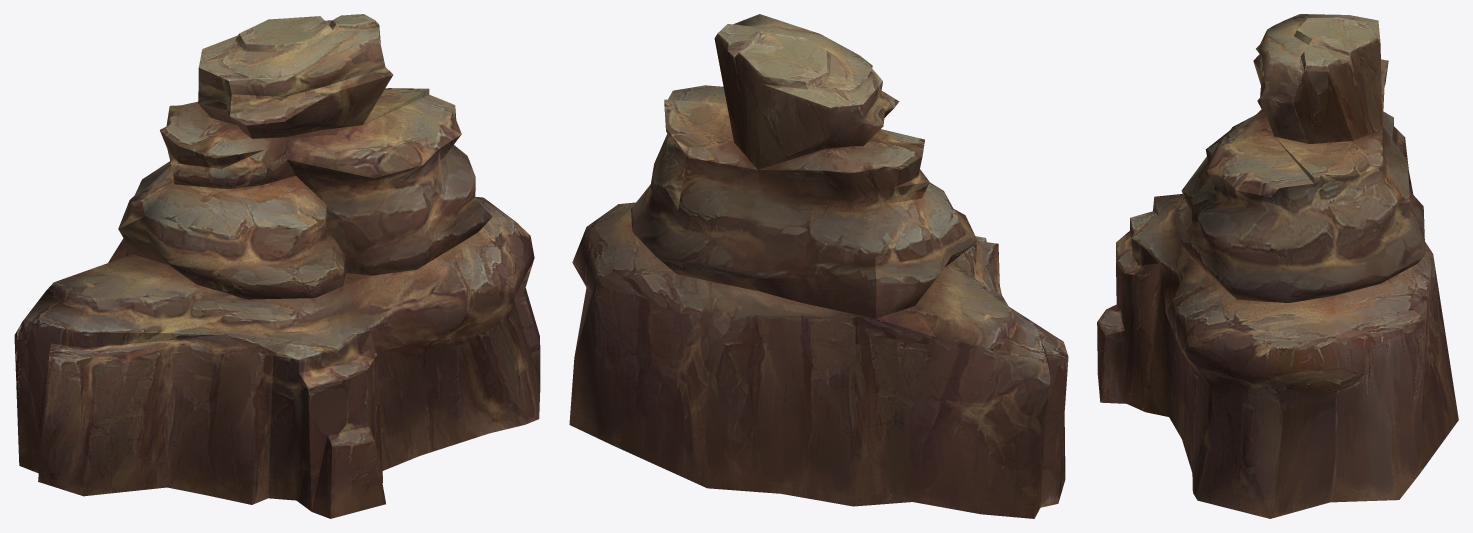
The model's file is Stone_3.FBX.
3 views of the same model, side by side, from view 1: azimuth 30°, elevation 25°; view 2: azimuth 150°, elevation 25°; view 3: azimuth 270°, elevation 25° (orthographic). The views are drawn at different scales.
Visible parts, largest first — view 1: Stone_3; view 2: Stone_3; view 3: Stone_3.
Part boxes in pixels (box(x1,y1,x2,y2)): Stone_3: box(14, 14, 540, 518); Stone_3: box(569, 14, 1068, 518); Stone_3: box(1097, 14, 1458, 518).
Size of the model in its own units: 988 by 757 by 641.
